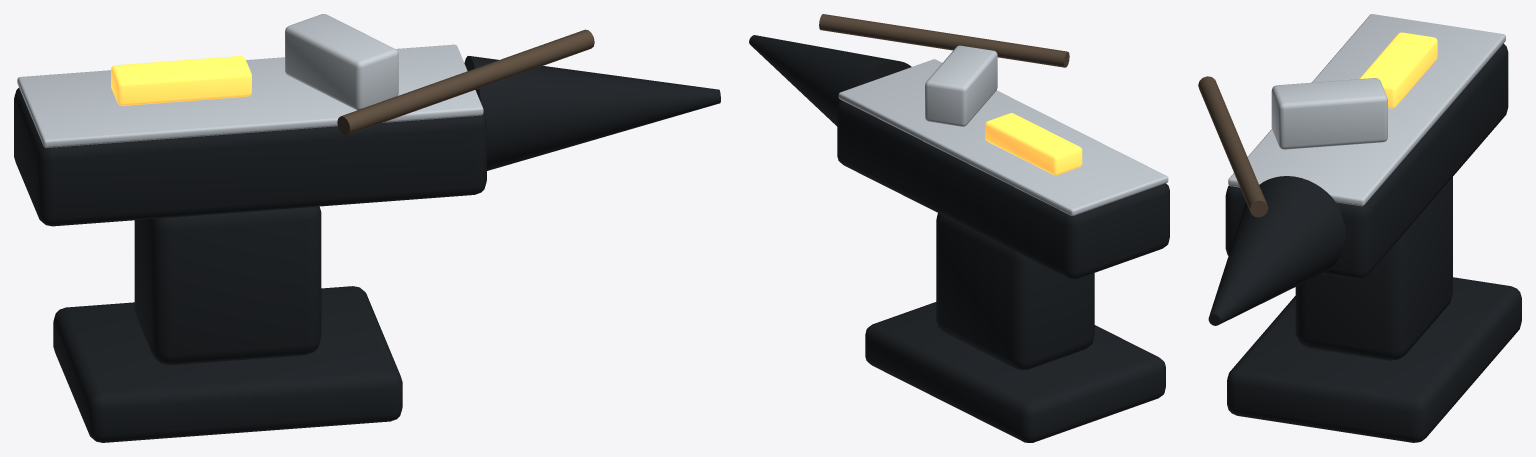
The model's file is anvil.glb.
3 renders of one model, left to right at view 1: azimuth 30°, elevation 25°; view 2: azimuth 150°, elevation 25°; view 3: azimuth 270°, elevation 25°, orthographic. The views are drawn at different scales.
Visible parts, largest first — view 1: titan.anvil.face, titan.anvil.foot, titan.anvil.waist, titan.anvil.face-steel, titan.anvil.horn, titan.anvil.hammer-head, titan.anvil.ingot, titan.anvil.hammer-handle; view 2: titan.anvil.face, titan.anvil.foot, titan.anvil.waist, titan.anvil.face-steel, titan.anvil.horn, titan.anvil.hammer-head, titan.anvil.hammer-handle, titan.anvil.ingot; view 3: titan.anvil.foot, titan.anvil.face-steel, titan.anvil.waist, titan.anvil.face, titan.anvil.horn, titan.anvil.hammer-head, titan.anvil.ingot, titan.anvil.hammer-handle.
Boxes of the visible parts, left/top/right/bottom form: titan.anvil.face: left=14, top=88, right=486, bottom=226; titan.anvil.foot: left=53, top=286, right=402, bottom=442; titan.anvil.waist: left=134, top=206, right=321, bottom=365; titan.anvil.face-steel: left=17, top=44, right=483, bottom=147; titan.anvil.horn: left=464, top=56, right=720, bottom=170; titan.anvil.hammer-head: left=285, top=14, right=398, bottom=110; titan.anvil.ingot: left=111, top=56, right=251, bottom=105; titan.anvil.hammer-handle: left=337, top=29, right=594, bottom=135; titan.anvil.face: left=837, top=100, right=1169, bottom=279; titan.anvil.foot: left=865, top=302, right=1165, bottom=442; titan.anvil.waist: left=936, top=213, right=1094, bottom=369; titan.anvil.face-steel: left=838, top=59, right=1168, bottom=215; titan.anvil.horn: left=749, top=35, right=911, bottom=126; titan.anvil.hammer-head: left=925, top=45, right=997, bottom=126; titan.anvil.hammer-handle: left=819, top=14, right=1069, bottom=67; titan.anvil.ingot: left=985, top=113, right=1082, bottom=175; titan.anvil.foot: left=1227, top=277, right=1521, bottom=442; titan.anvil.face-steel: left=1228, top=14, right=1505, bottom=206; titan.anvil.waist: left=1295, top=177, right=1452, bottom=360; titan.anvil.face: left=1225, top=43, right=1508, bottom=279; titan.anvil.horn: left=1208, top=176, right=1345, bottom=325; titan.anvil.hammer-head: left=1271, top=78, right=1387, bottom=149; titan.anvil.ingot: left=1359, top=32, right=1437, bottom=108; titan.anvil.hammer-handle: left=1198, top=76, right=1268, bottom=217.
Bounding box in the file's own units: 1.51 × 0.84 × 0.7589.
